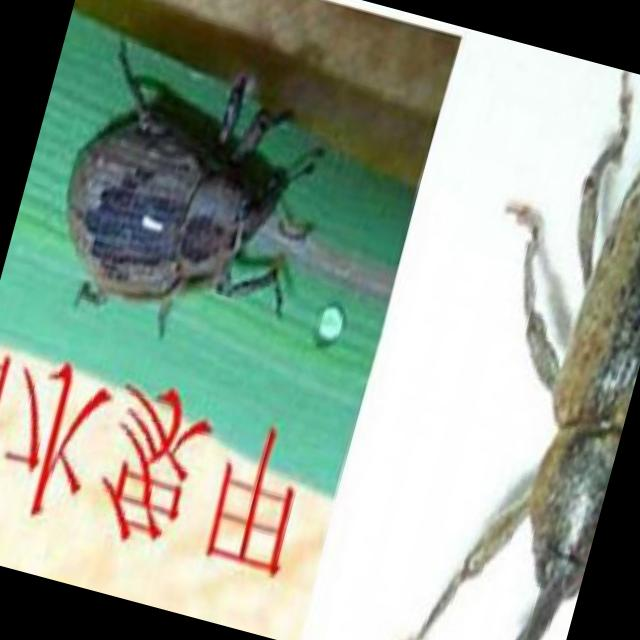rice-bug: (387, 54, 640, 640), (35, 31, 332, 362)
